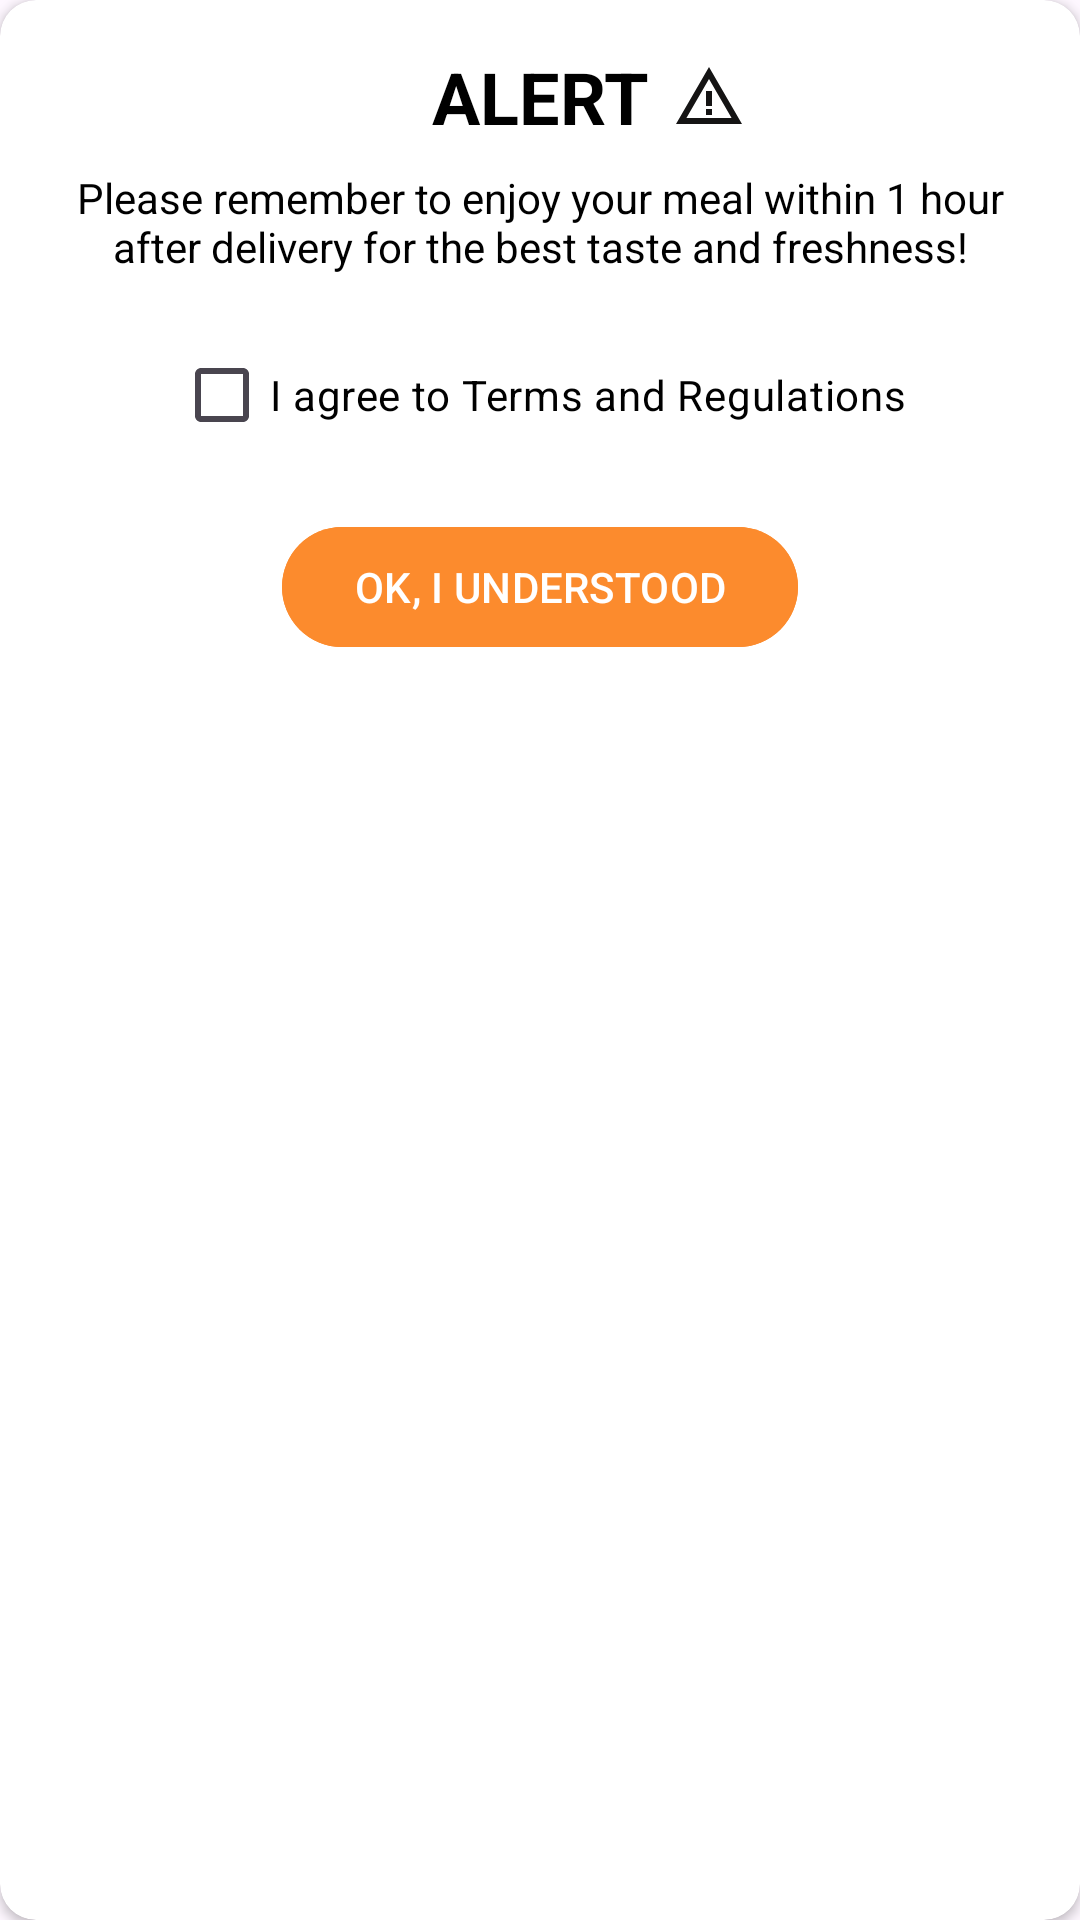

Point at icon controls on the screen. Image size 1080w x 1920h, points as (x=x, y=y).
warning amber: (x=709, y=95)
